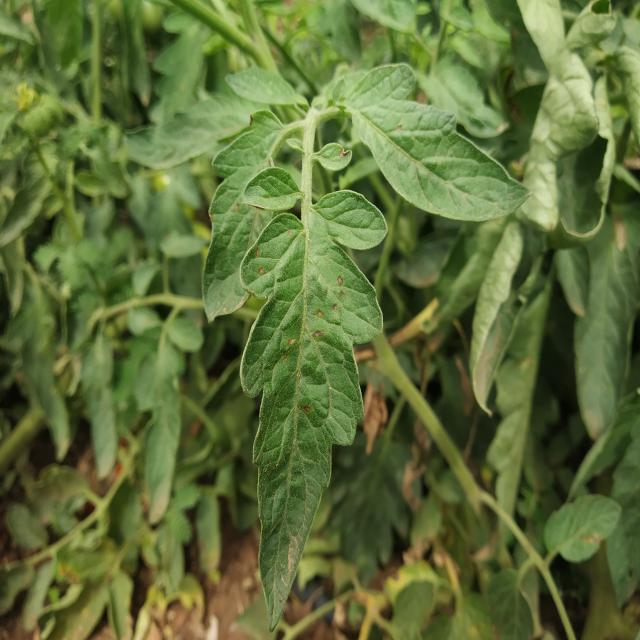Tomato mosaic virus leaf: (237, 211, 386, 634)
